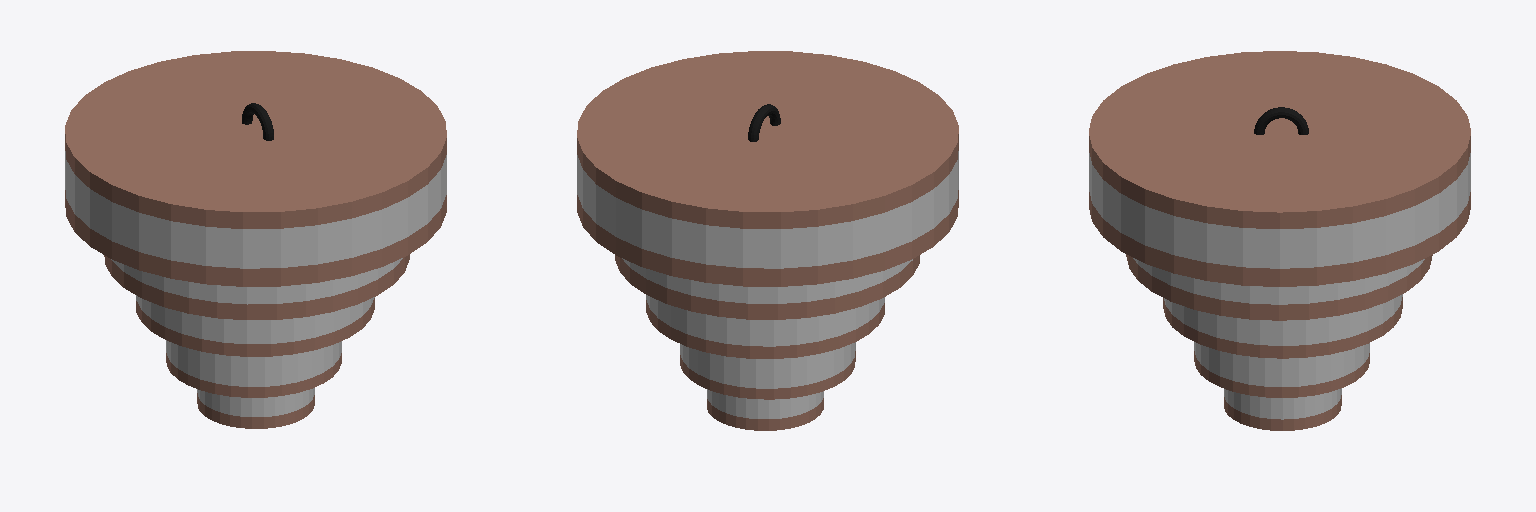
Rendered from fancyballroom.obj.
3 views of the same model, side by side, from view 1: azimuth 30°, elevation 25°; view 2: azimuth 150°, elevation 25°; view 3: azimuth 270°, elevation 25° (orthographic).
Parts seen in each view (by area): view 1: Plane_Plane.001; view 2: Plane_Plane.001; view 3: Plane_Plane.001.
Part boxes in pixels (x1,y1,x2,y2): Plane_Plane.001: (65,51,446,428); Plane_Plane.001: (577,51,958,430); Plane_Plane.001: (1089,51,1470,430).
Bounding box in the file's own units: 5.05 × 4.35 × 5.05.